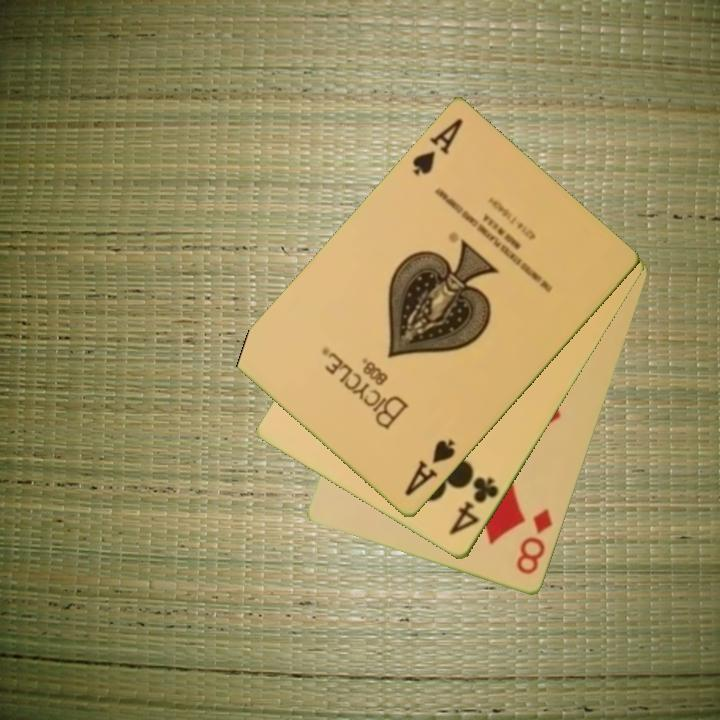4c: (445, 474, 502, 539)
8d: (513, 505, 556, 578)
As: (408, 115, 467, 180), (400, 436, 459, 500)
